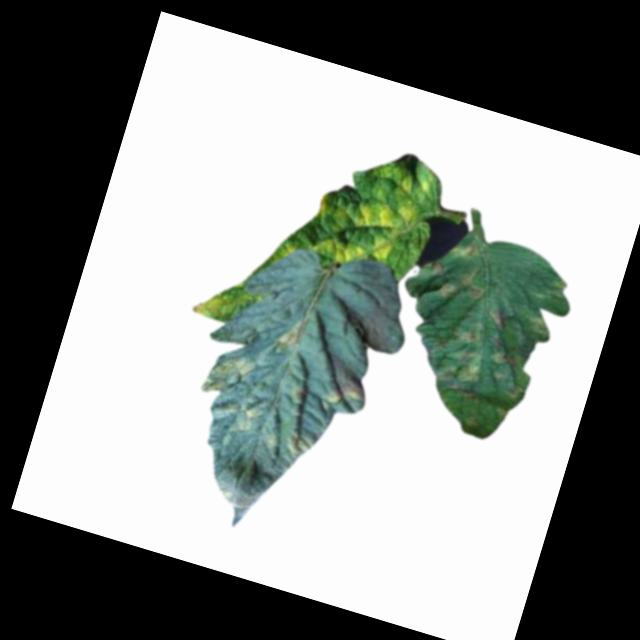Leaf_Mold: (322, 189, 418, 281), (199, 348, 254, 402), (438, 258, 490, 310), (316, 368, 371, 415), (220, 391, 265, 435), (449, 344, 489, 391), (273, 311, 309, 355), (486, 337, 527, 375), (445, 223, 487, 260), (191, 287, 231, 324), (283, 429, 317, 462), (484, 305, 516, 335), (523, 313, 552, 342), (312, 192, 332, 217)
